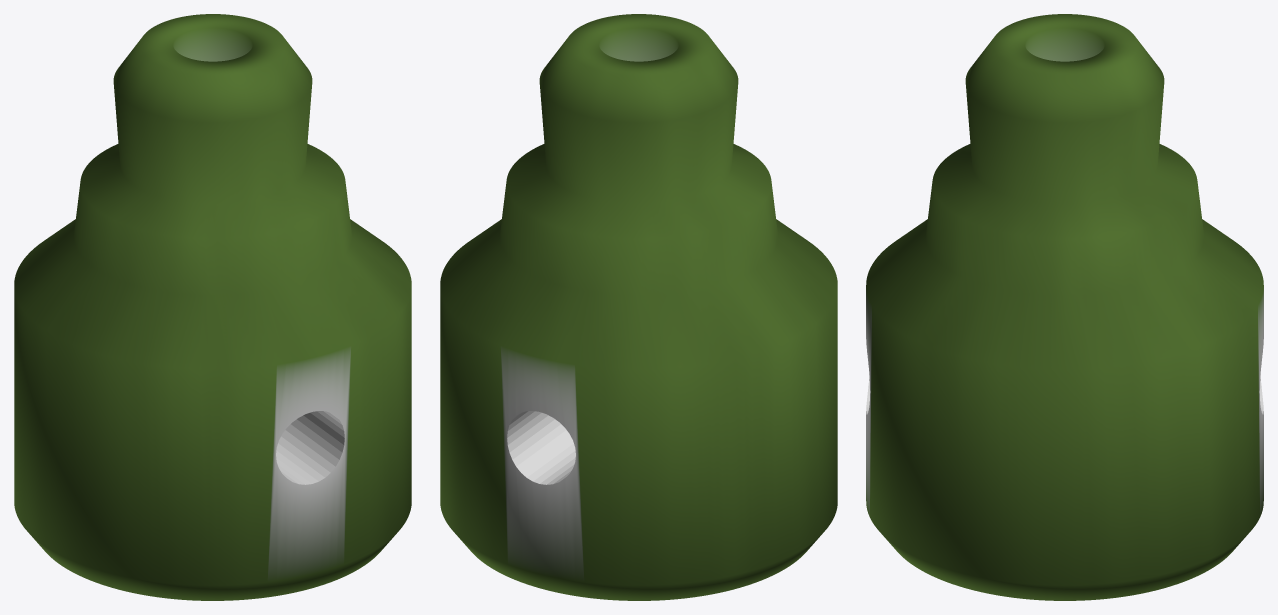
File: three-way.glb
3 views of the same model, side by side, from view 1: azimuth 30°, elevation 25°; view 2: azimuth 150°, elevation 25°; view 3: azimuth 270°, elevation 25° (orthographic).
Visible parts, largest first — view 1: three-way; view 2: three-way; view 3: three-way.
Part boxes in pixels (<box>): three-way: <box>14,14,411,600</box>; three-way: <box>440,14,837,600</box>; three-way: <box>866,14,1263,600</box>.
Bounding box in the file's own units: 0.006 × 0.008 × 0.006.
